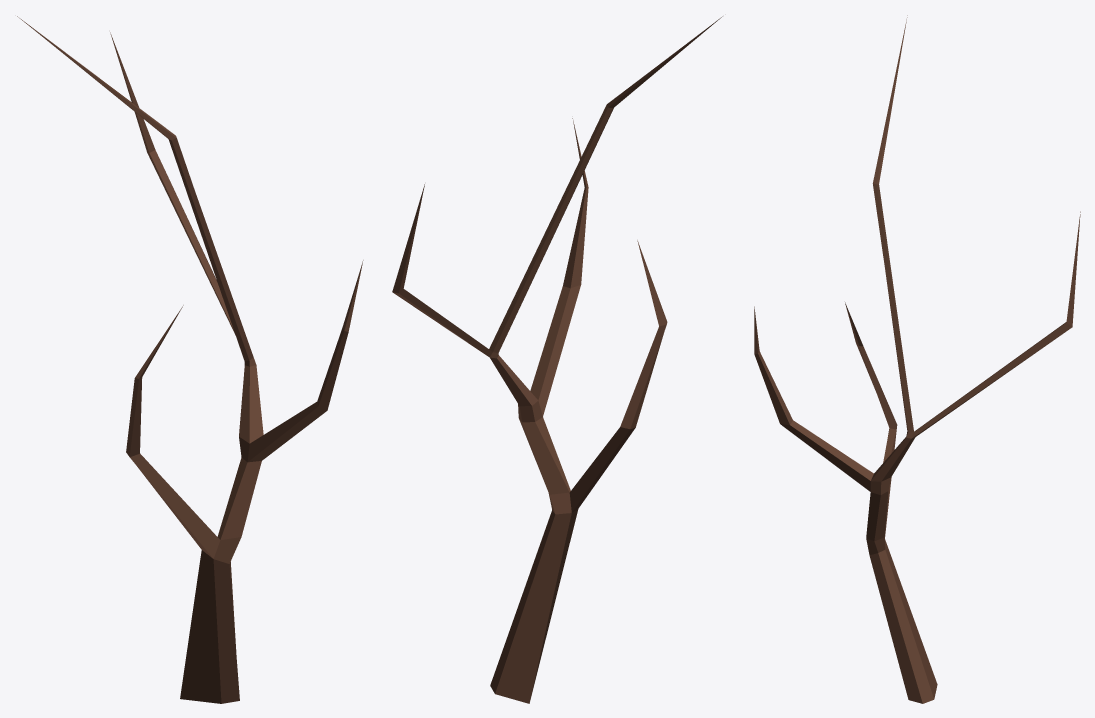
The model's file is TreeTrunk_30.fbx.
The picture shows the model from 3 angles, left to right: view 1: azimuth 30°, elevation 25°; view 2: azimuth 150°, elevation 25°; view 3: azimuth 270°, elevation 25°; orthographic projection. The views are drawn at different scales.
Visible parts, largest first — view 1: TreeTrunk_30; view 2: TreeTrunk_30; view 3: TreeTrunk_30.
Boxes of the visible parts, x1,y1,x2,y2 form: TreeTrunk_30: [17, 16, 363, 703]; TreeTrunk_30: [392, 16, 722, 703]; TreeTrunk_30: [754, 15, 1080, 703].
Bounding box in the file's own units: 202 × 564 × 279.
